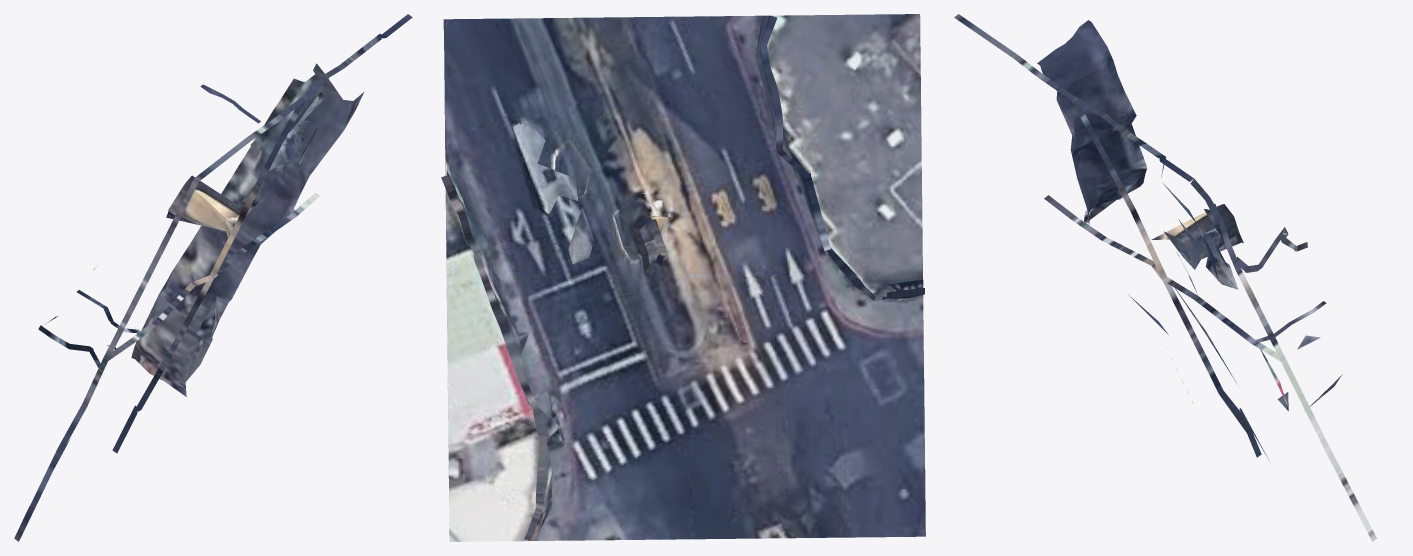
The picture shows the model from 3 angles, left to right: view 1: azimuth 30°, elevation 25°; view 2: azimuth 150°, elevation 25°; view 3: azimuth 270°, elevation 25°; orthographic projection. The views are drawn at different scales.
Bounding box in the file's own units: 38.2 × 37.15 × 34.01.
1 material, 1 textured.
